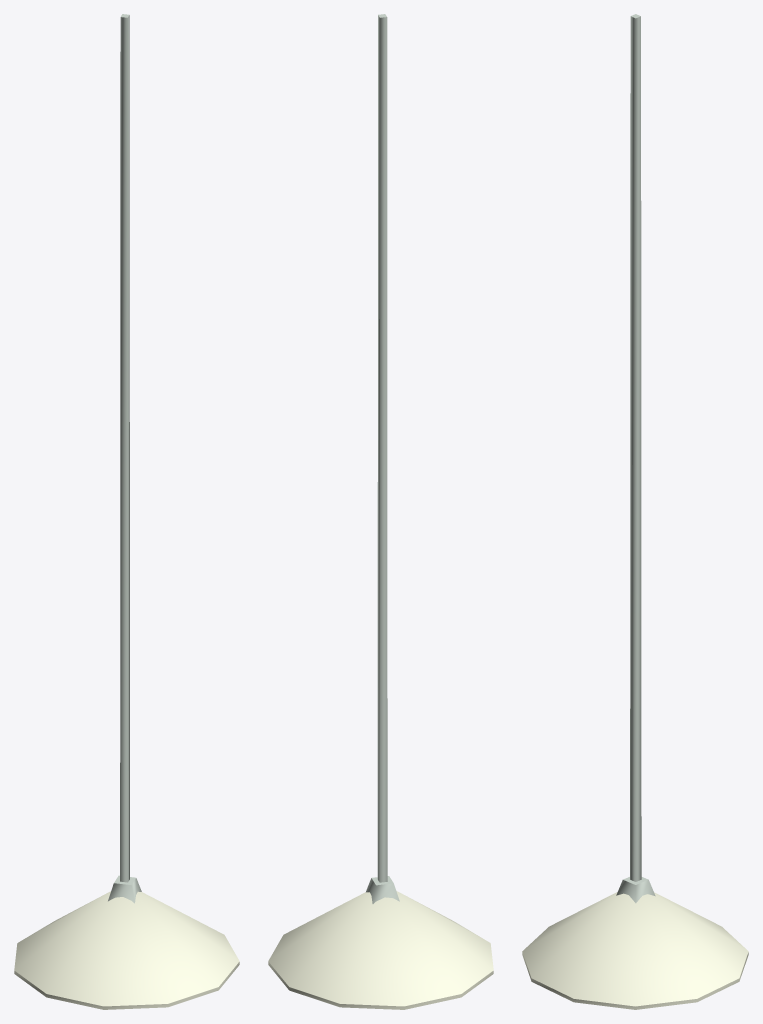
Rendered from lightbulblong1.fbx.
3 views of the same model, side by side, from view 1: azimuth 30°, elevation 25°; view 2: azimuth 150°, elevation 25°; view 3: azimuth 270°, elevation 25° (orthographic).
Visible parts, largest first — view 1: bulbshade-ref, bulblongwire-ref; view 2: bulbshade-ref, bulblongwire-ref; view 3: bulbshade-ref, bulblongwire-ref.
Boxes of the visible parts, x1,y1,x2,y2 form: bulbshade-ref: (14, 875, 239, 1009); bulblongwire-ref: (120, 14, 129, 882); bulbshade-ref: (268, 876, 493, 1009); bulblongwire-ref: (377, 14, 387, 882); bulbshade-ref: (522, 877, 748, 1009); bulblongwire-ref: (630, 14, 641, 881).
Size of the model in its own units: 229 by 1102 by 231.
